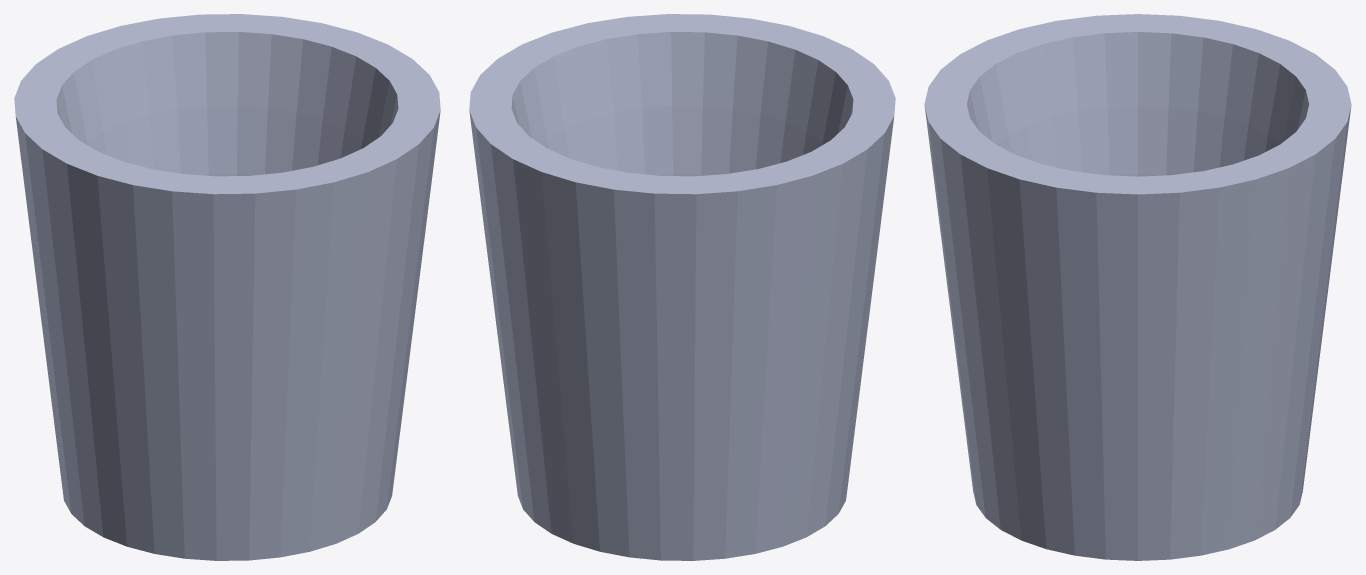
File: cup.fbx
3 renders of one model, left to right at view 1: azimuth 30°, elevation 25°; view 2: azimuth 150°, elevation 25°; view 3: azimuth 270°, elevation 25°, orthographic.
Visible parts, largest first — view 1: Cylinder; view 2: Cylinder; view 3: Cylinder.
Part boxes in pixels (x1,y1,x2,y2): Cylinder: (14,14,440,560); Cylinder: (469,14,895,560); Cylinder: (924,14,1351,560).
Bounding box in the file's own units: 200 × 200 × 200.
